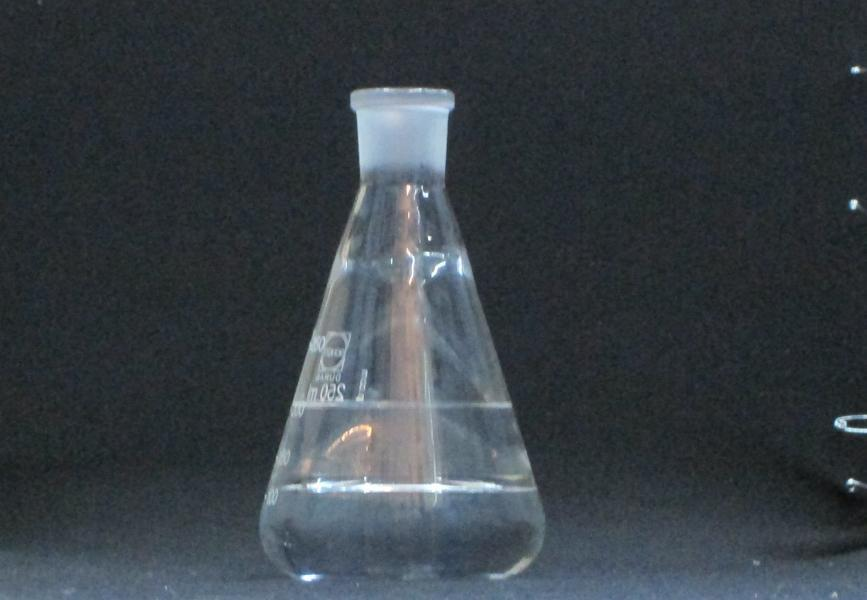Titrarion: (263, 85, 547, 576)
